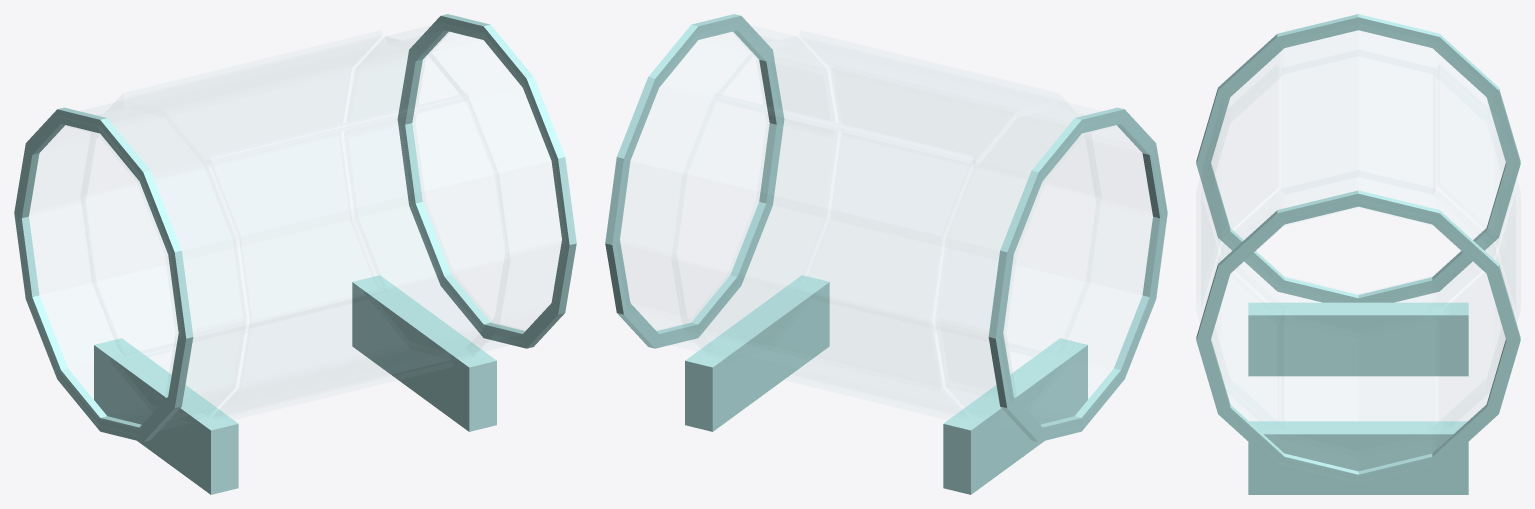
Rendered from tube_station.glb.
3 views of the same model, side by side, from view 1: azimuth 30°, elevation 25°; view 2: azimuth 150°, elevation 25°; view 3: azimuth 270°, elevation 25° (orthographic). The views are drawn at different scales.
Parts seen in each view (by area): view 1: Station_Supports, End_Rim_-0, End_Rim_0; view 2: Station_Supports, End_Rim_-0, End_Rim_0; view 3: Station_Supports, End_Rim_0, End_Rim_-0, Boarding_Door_back, Boarding_Door_front.
Part boxes in pixels (x1=…): Station_Supports: x1=94, y1=275, x2=496, y2=494; End_Rim_-0: x1=14, y1=107, x2=193, y2=442; End_Rim_0: x1=397, y1=14, x2=576, y2=348; Station_Supports: x1=685, y1=275, x2=1087, y2=494; End_Rim_-0: x1=988, y1=107, x2=1167, y2=442; End_Rim_0: x1=605, y1=14, x2=784, y2=348; Station_Supports: x1=1248, y1=302, x2=1468, y2=494; End_Rim_0: x1=1196, y1=190, x2=1520, y2=487; End_Rim_-0: x1=1196, y1=14, x2=1520, y2=302; Boarding_Door_back: x1=1499, y1=194, x2=1515, y2=306; Boarding_Door_front: x1=1201, y1=194, x2=1217, y2=306.
Bounding box in the file's own units: 2 × 1.66 × 1.5.
7 materials, 7 textured.
